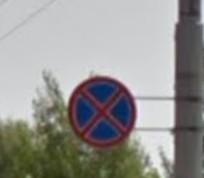No Parking: (68, 77, 138, 149)
